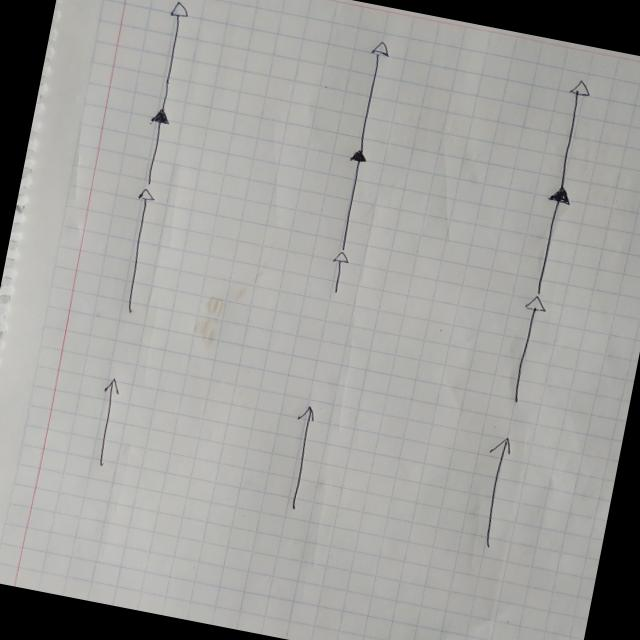arrow_line_up: (112, 185, 164, 316), (470, 433, 520, 552), (503, 294, 554, 409), (149, 0, 199, 112), (548, 78, 597, 190), (528, 184, 576, 298), (327, 148, 376, 254), (350, 38, 392, 154), (278, 402, 322, 512), (87, 374, 129, 470), (135, 106, 177, 188), (324, 250, 355, 299)
